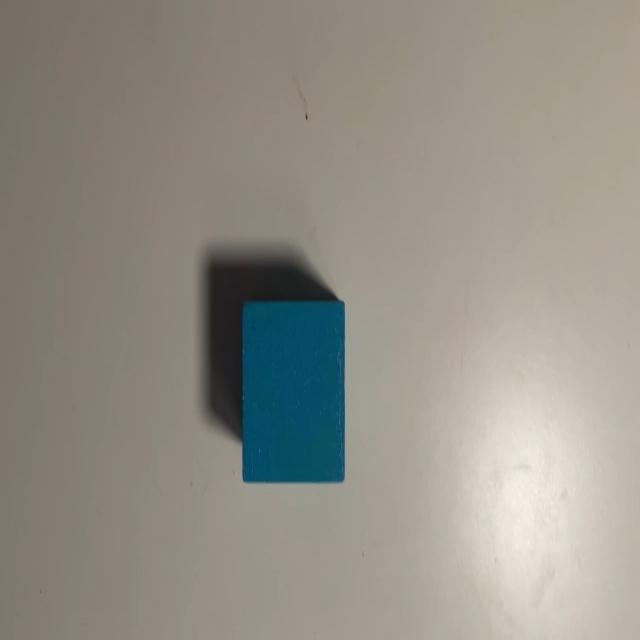blue_block: (242, 303, 347, 483)
